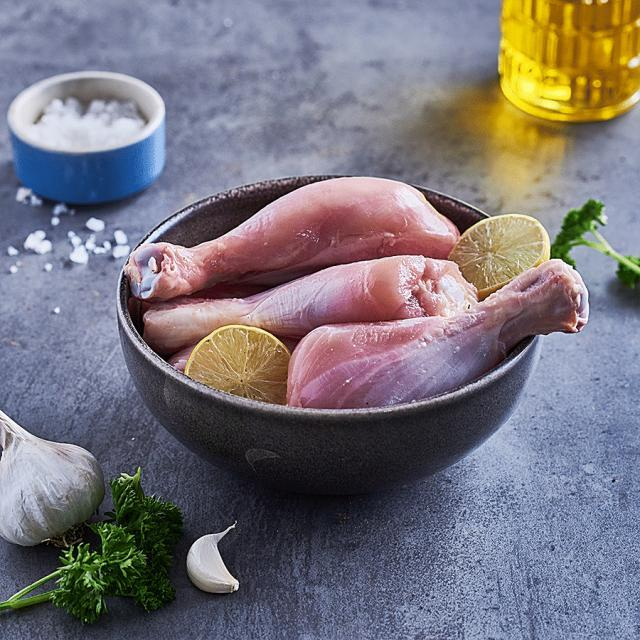leg: (287, 264, 588, 402), (118, 172, 461, 284), (135, 254, 468, 342)
